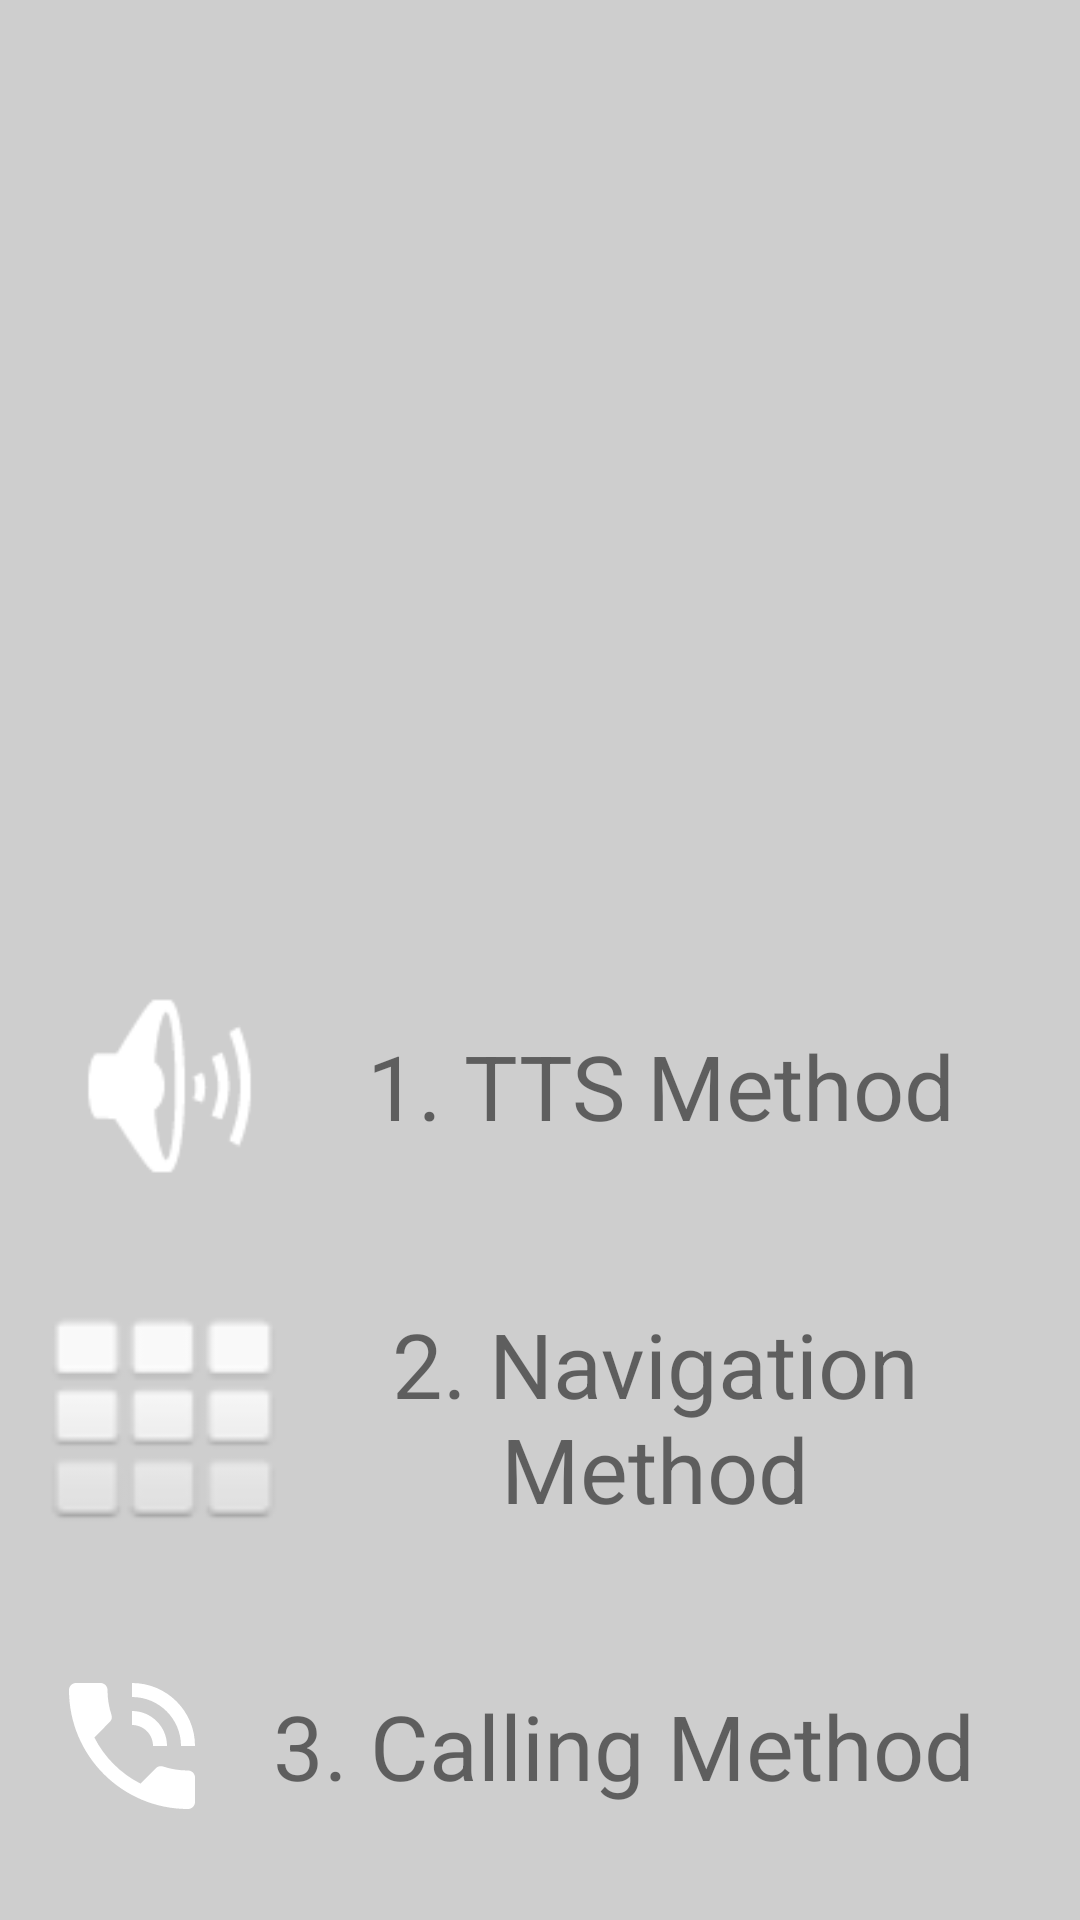

Locate icon controls on the screen. Image size 1080 x 1920, boxes as (x1, y1, x2, y2).
dialer: (53, 1320, 271, 1518)
